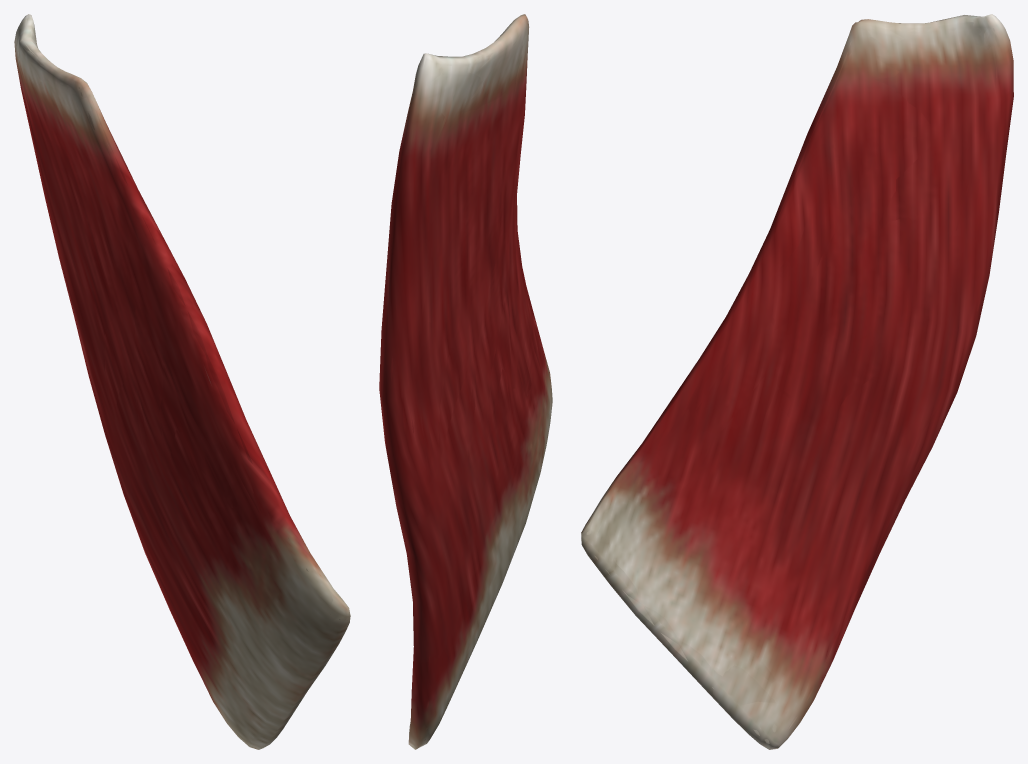
Rendered from L Gracilis.fbx.
3 renders of one model, left to right at view 1: azimuth 30°, elevation 25°; view 2: azimuth 150°, elevation 25°; view 3: azimuth 270°, elevation 25°, orthographic. The views are drawn at different scales.
Parts seen in each view (by area): view 1: L Gracilis, L Gracilis low, L Gracilis high; view 2: L Gracilis, L Gracilis low, L Gracilis high; view 3: L Gracilis, L Gracilis low, L Gracilis high.
Boxes of the visible parts, x1,y1,x2,y2 form: L Gracilis: (14,14,350,749); L Gracilis low: (14,14,349,743); L Gracilis high: (18,24,347,741); L Gracilis: (379,14,552,748); L Gracilis low: (379,16,552,749); L Gracilis high: (382,15,551,745); L Gracilis: (581,14,1013,749); L Gracilis low: (582,14,1012,749); L Gracilis high: (586,17,1010,743).
Bounding box in the file's own units: 2.39 × 10.63 × 6.15.
1 material, 1 textured.
